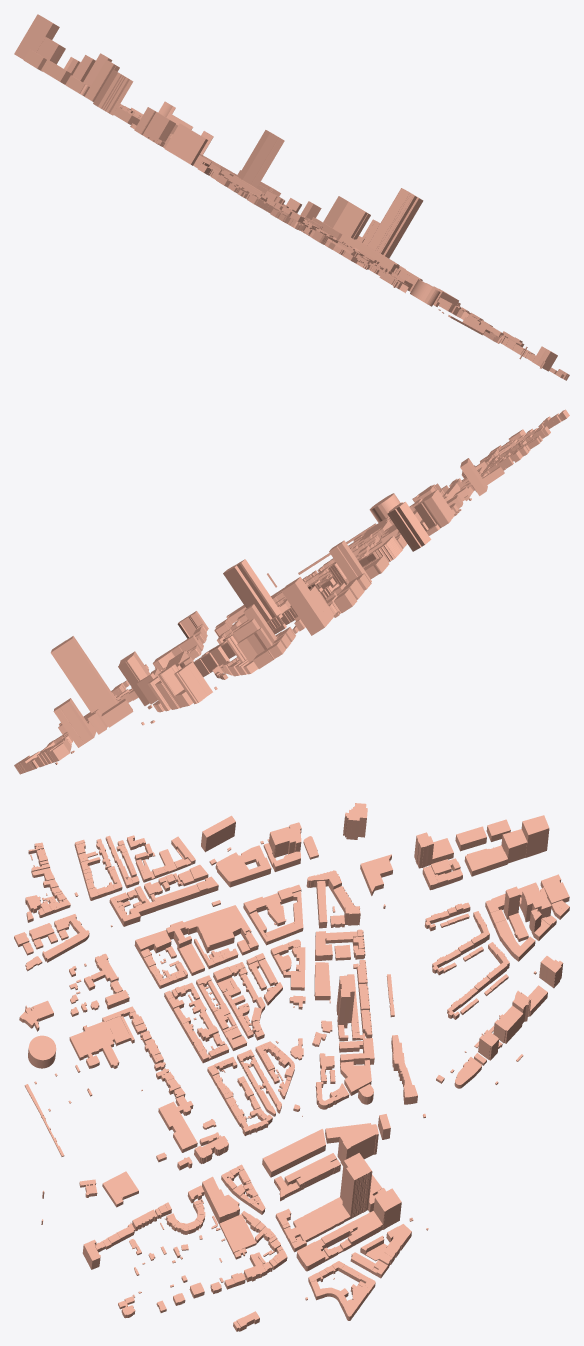
3 views of the same model, one above another, from view 1: azimuth 30°, elevation 25°; view 2: azimuth 150°, elevation 25°; view 3: azimuth 270°, elevation 25° (orthographic). The views are drawn at different scales.
Bounding box in the file's own units: 1018 × 834 × 1212.
